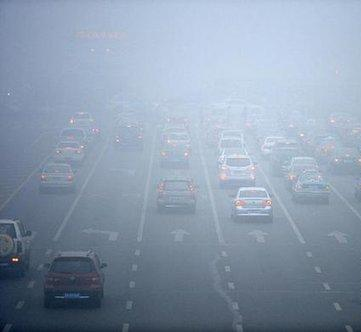car: (40, 249, 107, 310), (152, 175, 201, 215), (1, 217, 31, 280), (227, 187, 274, 222), (215, 154, 260, 189), (290, 169, 329, 206), (270, 140, 305, 178), (37, 163, 79, 194), (327, 145, 361, 176), (49, 140, 85, 169), (113, 124, 146, 154), (288, 155, 320, 184), (157, 142, 190, 170), (56, 127, 89, 154), (216, 136, 247, 163), (163, 131, 192, 158), (260, 134, 290, 160), (71, 119, 100, 145), (218, 127, 245, 150), (68, 111, 93, 135)
